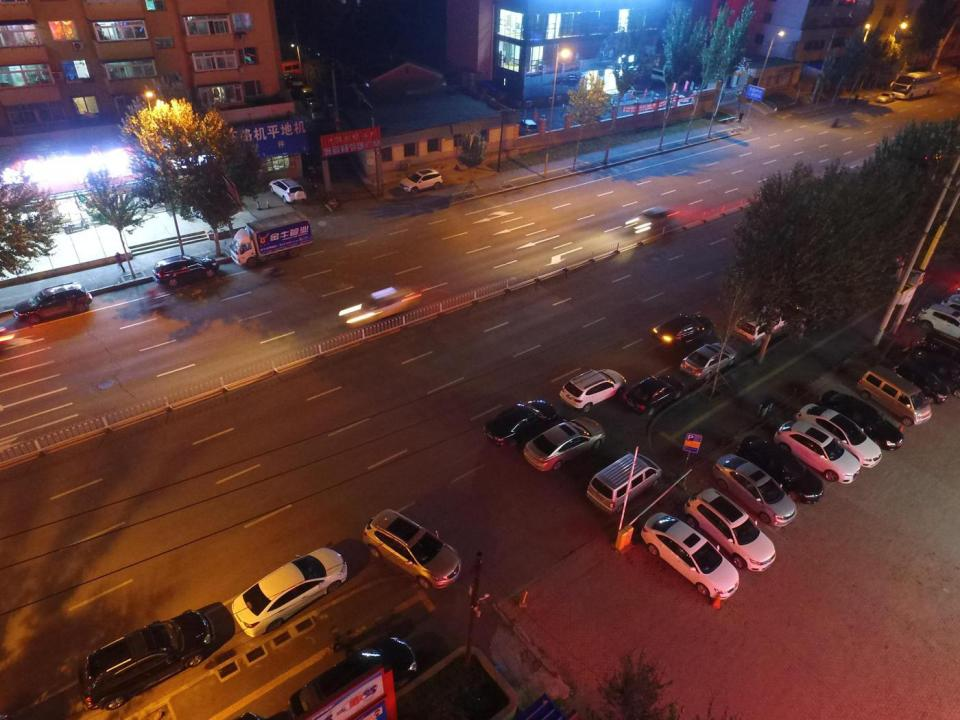bus: (888, 72, 941, 99)
car: (77, 610, 212, 710), (288, 637, 417, 720), (232, 546, 348, 638), (641, 512, 741, 600), (363, 508, 461, 591), (684, 486, 777, 573), (736, 434, 824, 506), (712, 454, 797, 528), (775, 418, 860, 484), (797, 402, 880, 469), (821, 389, 904, 451), (522, 416, 606, 472), (483, 399, 557, 449), (339, 286, 422, 330), (13, 284, 92, 326), (560, 368, 627, 412), (906, 348, 960, 397), (624, 375, 687, 416), (895, 362, 950, 406), (681, 340, 738, 380), (153, 255, 221, 287), (653, 315, 715, 350), (915, 302, 960, 338), (399, 169, 443, 193), (268, 177, 307, 204), (924, 330, 960, 358), (640, 206, 669, 230), (554, 75, 585, 85), (875, 90, 895, 103)
truck: (230, 210, 312, 267)
van: (856, 364, 931, 426), (586, 452, 661, 513), (734, 306, 800, 348), (519, 119, 537, 136)
